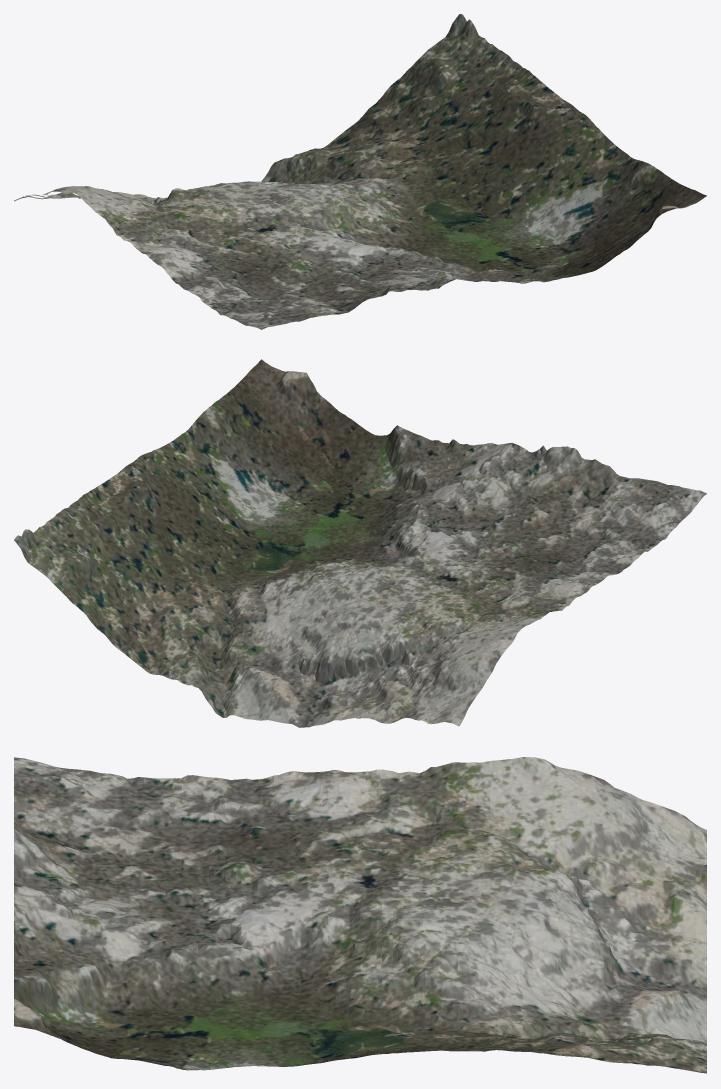
3 renders of one model, top to bottom at view 1: azimuth 30°, elevation 25°; view 2: azimuth 150°, elevation 25°; view 3: azimuth 270°, elevation 25°, orthographic. The views are drawn at different scales.
Bounding box in the file's own units: 500 × 139 × 481.
Materials: 1 (1 with a texture image).
